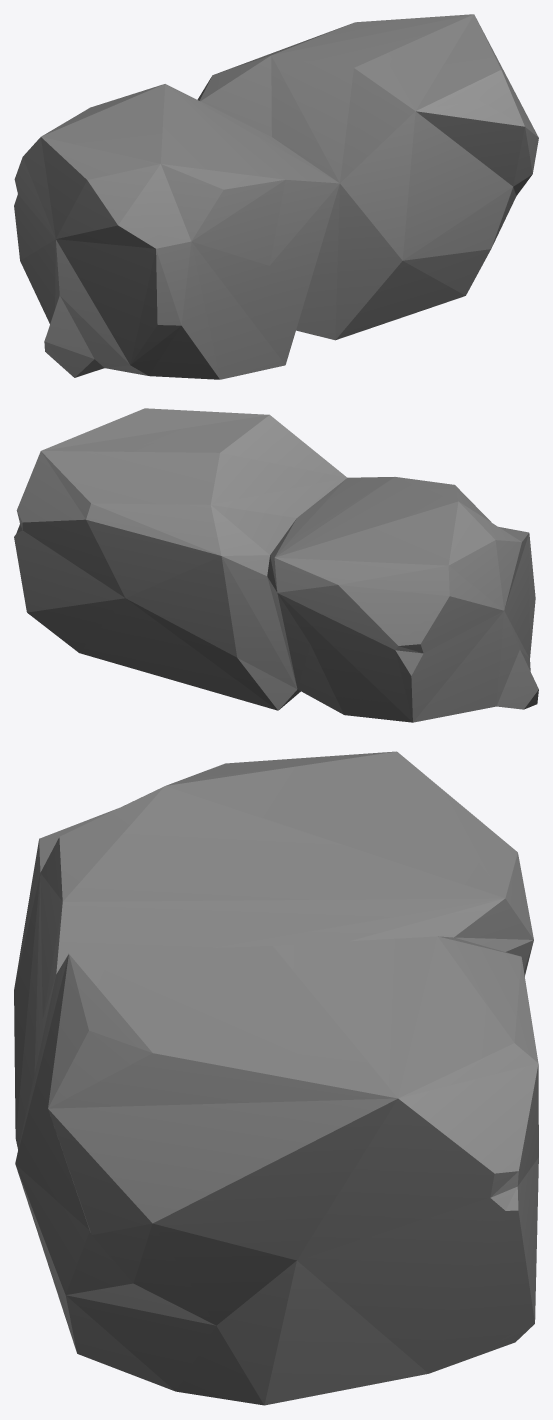
File: stone small 10.fbx
3 views of the same model, one above another, from view 1: azimuth 30°, elevation 25°; view 2: azimuth 150°, elevation 25°; view 3: azimuth 270°, elevation 25° (orthographic). The views are drawn at different scales.
Parts seen in each view (by area): view 1: stone small 10; view 2: stone small 10; view 3: stone small 10.
Part boxes in pixels (x1=…): stone small 10: x1=14, y1=14, x2=538, y2=379; stone small 10: x1=14, y1=408, x2=538, y2=722; stone small 10: x1=14, y1=751, x2=538, y2=1405.
Bounding box in the file's own units: 204 × 87.26 × 109.
